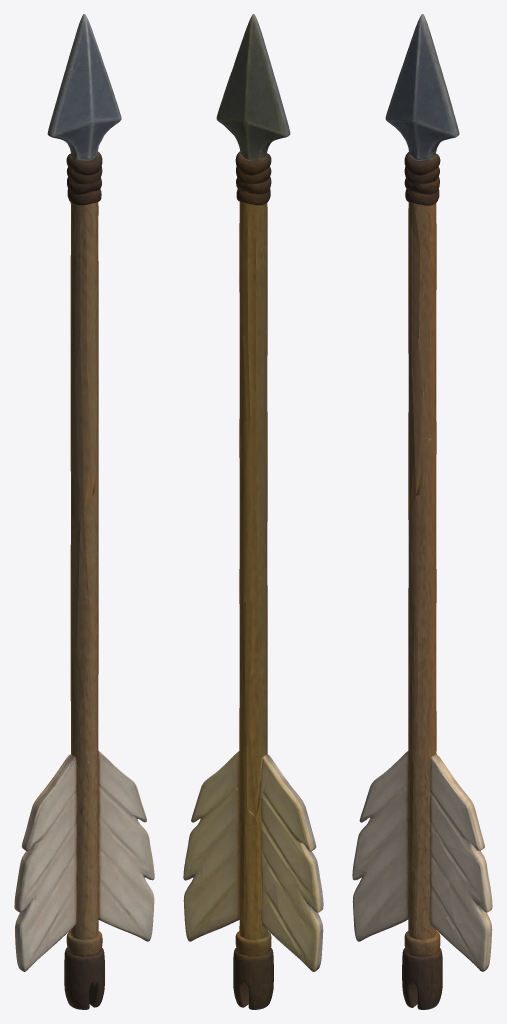
File: arrow-original.glb
The picture shows the model from 3 angles, left to right: view 1: azimuth 30°, elevation 25°; view 2: azimuth 150°, elevation 25°; view 3: azimuth 330°, elevation 25°; orthographic projection.
Visible parts, largest first — view 1: output_unwrapped; view 2: output_unwrapped; view 3: output_unwrapped.
Part boxes in pixels (x1=…): output_unwrapped: x1=14, y1=14, x2=154, y2=1009; output_unwrapped: x1=183, y1=14, x2=323, y2=1009; output_unwrapped: x1=352, y1=14, x2=492, y2=1009.
Bounding box in the file's own units: 0.2732 × 1.9 × 0.0706.
1 material, 1 textured.
